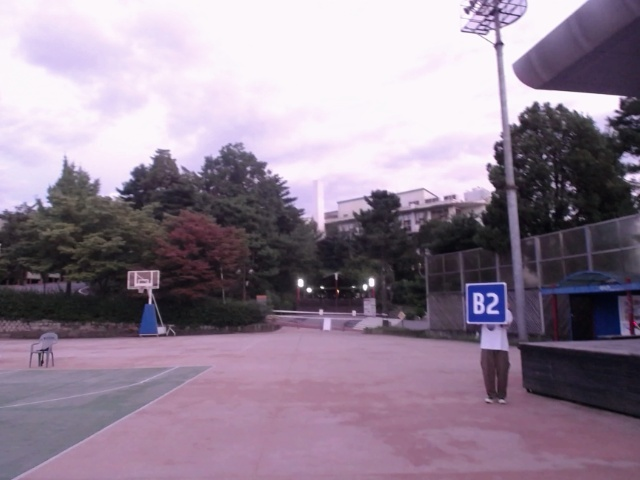delivery_b2: (466, 283, 508, 325)
